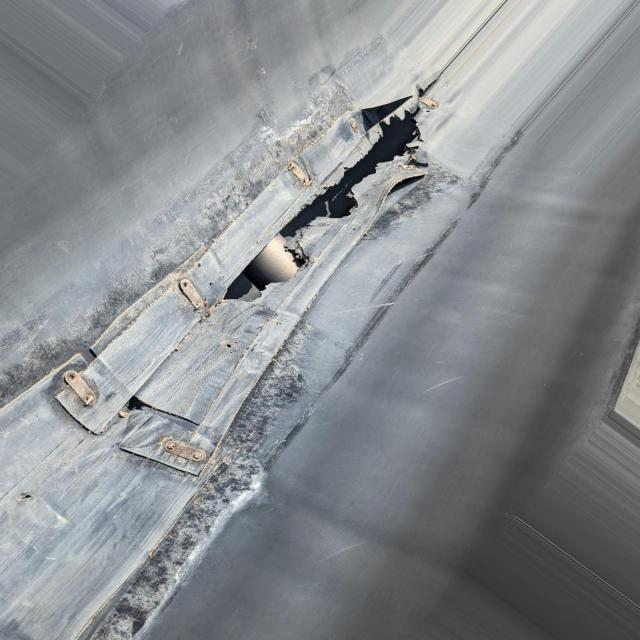Hole: (218, 120, 424, 300)
impact damage: (0, 97, 431, 640)
